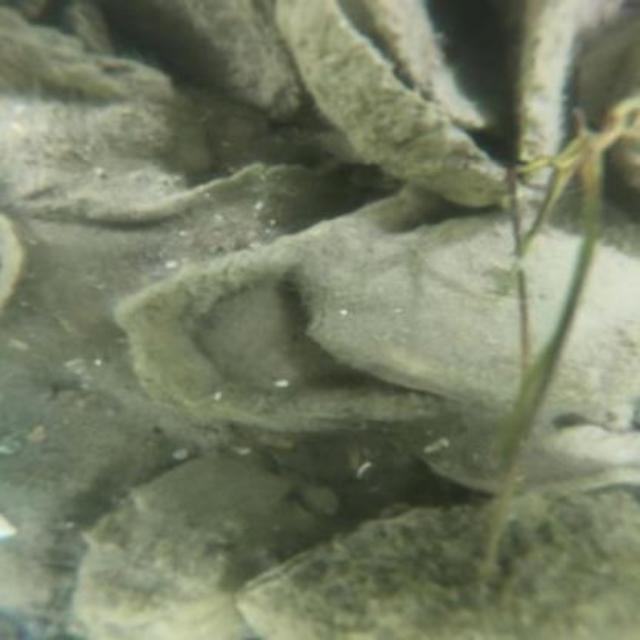Oyster-Closed: (113, 172, 495, 430), (298, 206, 638, 422), (221, 490, 638, 638), (67, 457, 277, 629), (0, 28, 188, 210), (113, 0, 300, 113), (361, 0, 504, 127), (586, 22, 638, 131), (555, 415, 638, 462)
Oyster-Open: (273, 0, 583, 200)
